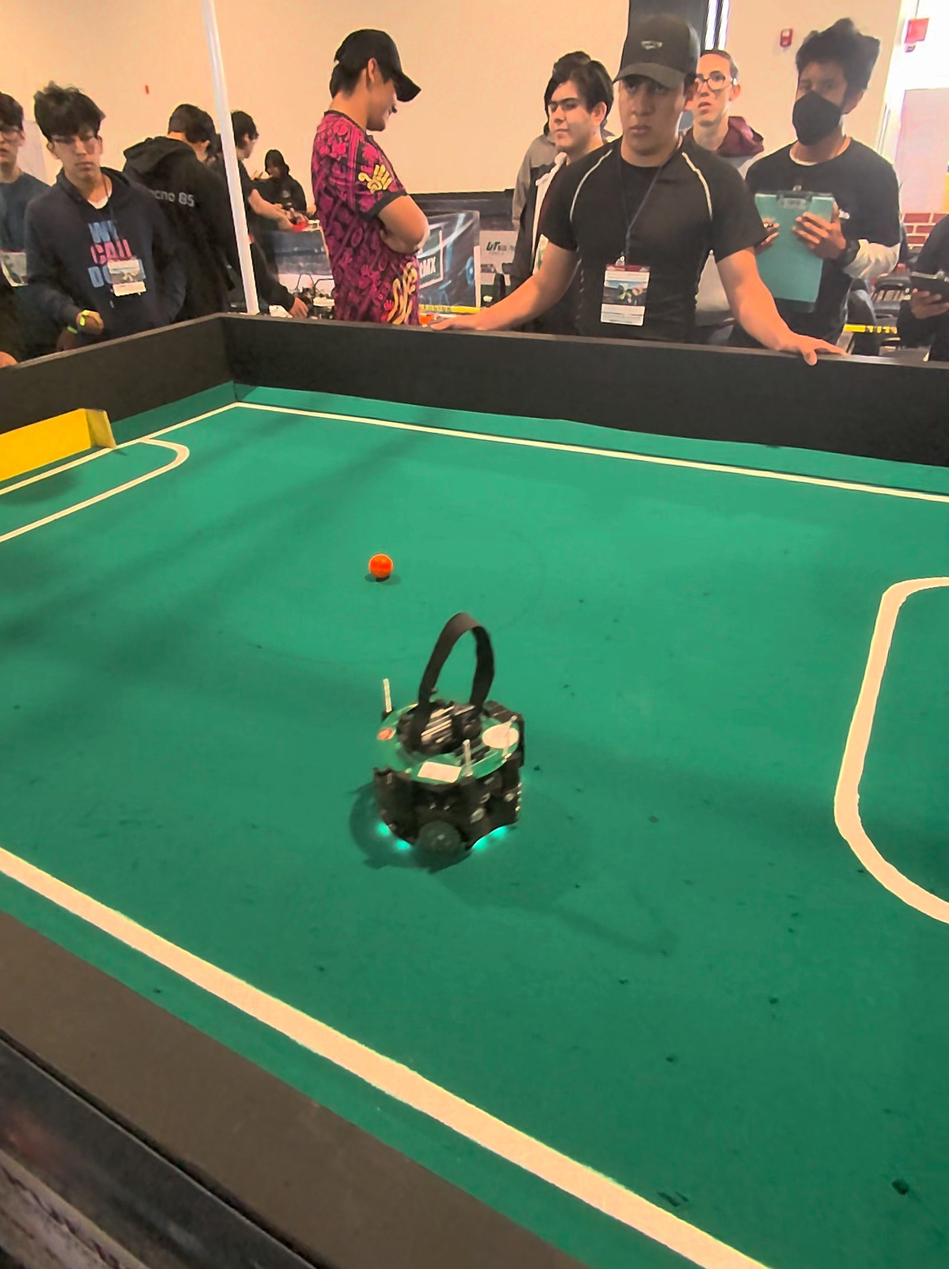Robot: (369, 597, 534, 892)
pelota: (369, 552, 394, 585)
